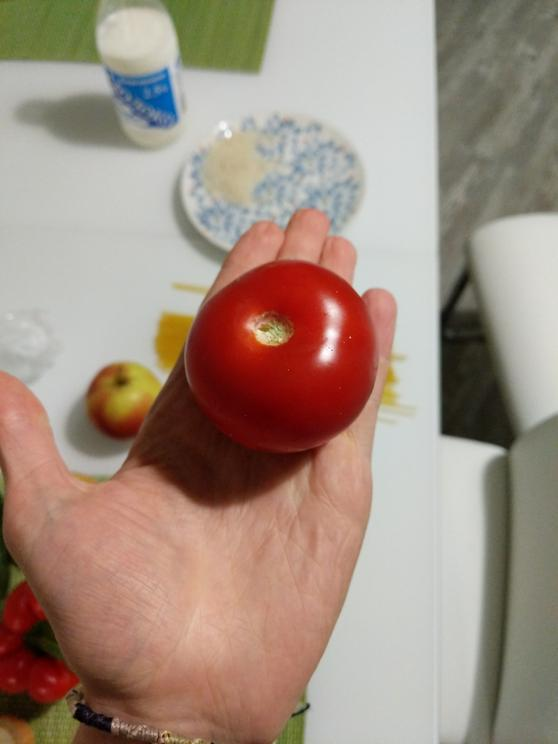milk: (75, 1, 188, 164)
rice: (197, 133, 297, 213)
tomato: (177, 258, 391, 470)
